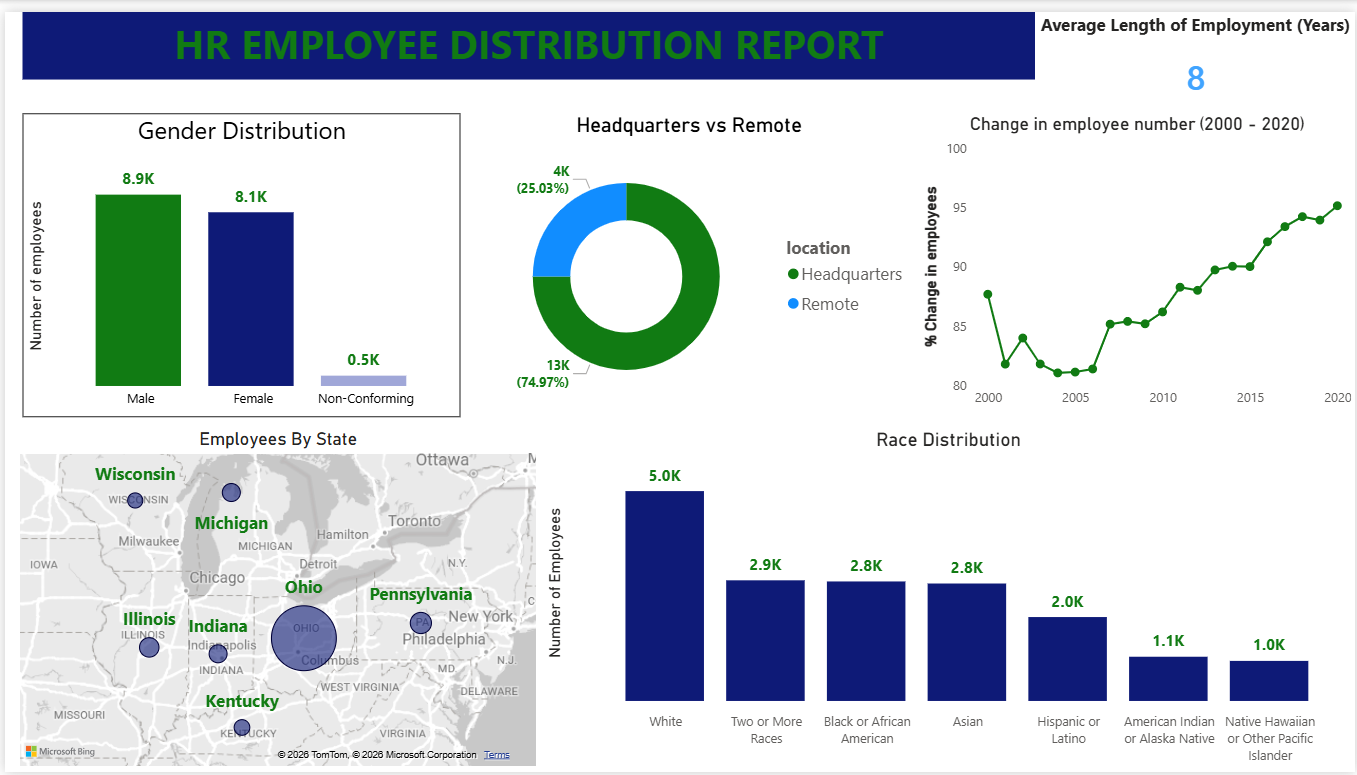

The page's visual inventory and layout, read from the dashboard file:
{"tool":"powerbi","page":{"name":"Page 1","canvas":[1280,720],"ordinal":0},"visuals":[{"type":"textbox","box":[16,0,960,64],"z":0},{"type":"cardVisual","title":"Average Length of Employment (Years)","fields":{"Data":["Sum(avg_length_emp.avg_length_emp)"]},"box":[976,0,304,96],"z":1000},{"type":"columnChart","title":"Gender Distribution","fields":{"Category":["Gender breakdown.gender"],"Y":["Sum(Gender breakdown.count)"]},"box":[9.3,70.9,429.1,289.5],"z":2000},{"type":"donutChart","title":"Headquarters vs Remote","fields":{"Y":["Sum(Work Location.count)"],"Category":["Work Location.location"]},"box":[438.4,70.9,418.6,275.6],"z":3000},{"type":"lineChart","title":"Change in employee number (2000 - 2020)","fields":{"Category":["employee_count_overtime.year"],"Y":["Sum(employee_count_overtime.net_change_percent)"]},"box":[864,112,416,272],"z":4000},{"type":"map","title":"Employees By State","fields":{"Size":["Sum(Location_state.count)"],"Category":["Location_state.location_state"]},"box":[9.3,394.2,498.8,325.6],"z":5000},{"type":"clusteredColumnChart","title":"Race Distribution","fields":{"Category":["Race breakdown.race"],"Y":["Sum(Race breakdown.count)"]},"box":[508.1,394.2,772.1,325.6],"z":6000}]}

Visuals, with their boxes in screenshot pixels (x1, y1, x2, y2), scaled from the page's 1280x720 canvas onto the 1357x775 screenshot:
textbox: pyautogui.locateOnScreen(17, 0, 1035, 69)
"Average Length of Employment (Years)" cardVisual: pyautogui.locateOnScreen(1035, 0, 1356, 103)
"Gender Distribution" columnChart: pyautogui.locateOnScreen(10, 76, 465, 388)
"Headquarters vs Remote" donutChart: pyautogui.locateOnScreen(465, 76, 909, 373)
"Change in employee number (2000 - 2020)" lineChart: pyautogui.locateOnScreen(916, 121, 1356, 413)
"Employees By State" map: pyautogui.locateOnScreen(10, 424, 539, 774)
"Race Distribution" clusteredColumnChart: pyautogui.locateOnScreen(539, 424, 1356, 774)
